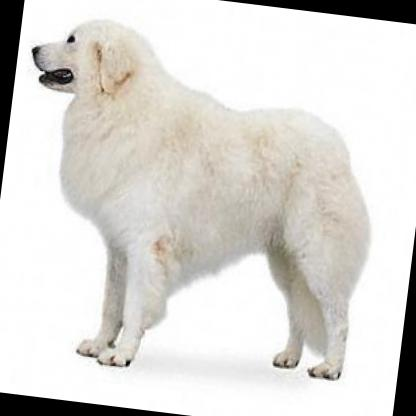kuvasz: (0, 3, 395, 398)
